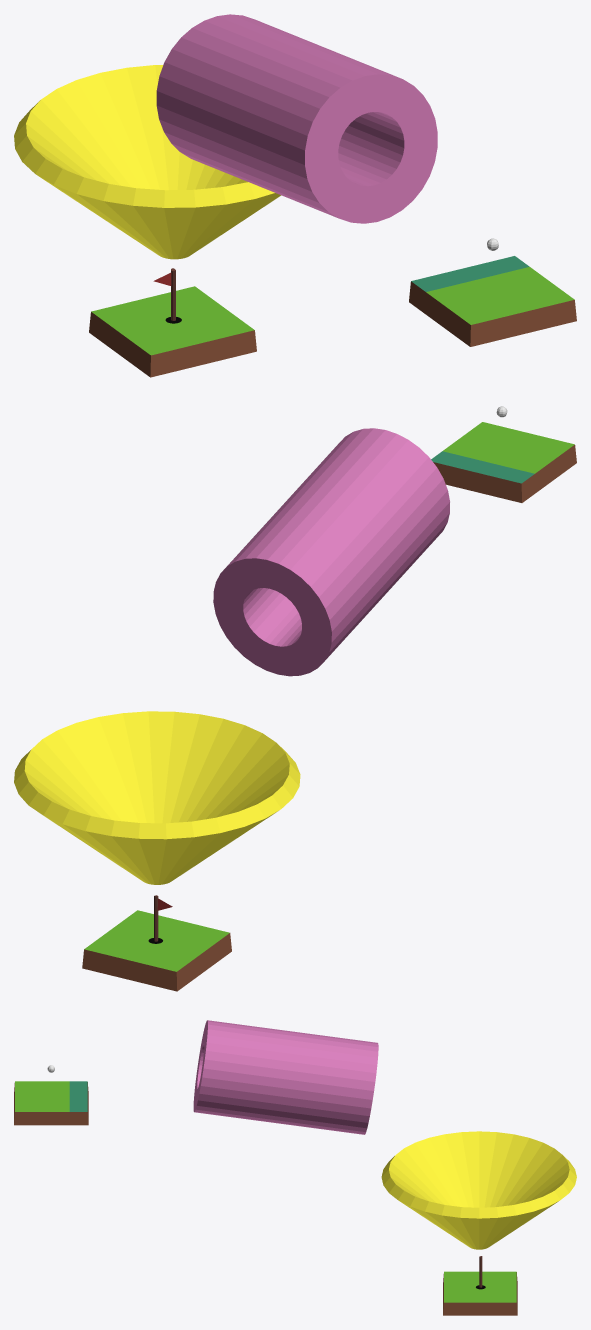
File: level4.glb
3 views of the same model, one above another, from view 1: azimuth 30°, elevation 25°; view 2: azimuth 150°, elevation 25°; view 3: azimuth 270°, elevation 25° (orthographic). The views are drawn at different scales.
Visible parts, largest first — view 1: Cylinder, Cylinder.001, basic-moveable.001, basic-fixed.001, flag; view 2: Cylinder, Cylinder.001, basic-fixed.001, basic-moveable.001; view 3: Cylinder, Cylinder.001, basic-moveable.001, basic-fixed.001.
Boxes of the visible parts, left/top/right/bottom form: Cylinder: left=156, top=14, right=437, bottom=223; Cylinder.001: left=14, top=65, right=280, bottom=259; basic-moveable.001: left=409, top=256, right=576, bottom=346; basic-fixed.001: left=89, top=286, right=256, bottom=377; flag: left=153, top=268, right=181, bottom=323; Cylinder: left=213, top=428, right=449, bottom=676; Cylinder.001: left=14, top=711, right=300, bottom=884; basic-fixed.001: left=82, top=910, right=231, bottom=991; basic-moveable.001: left=431, top=422, right=576, bottom=502; Cylinder: left=193, top=1020, right=378, bottom=1134; Cylinder.001: left=381, top=1131, right=576, bottom=1249; basic-moveable.001: left=14, top=1081, right=88, bottom=1125; basic-fixed.001: left=443, top=1271, right=517, bottom=1315.
Size of the model in its own units: 5.23 by 7.85 by 15.07.
Materials: 4 (4 with a texture image).
